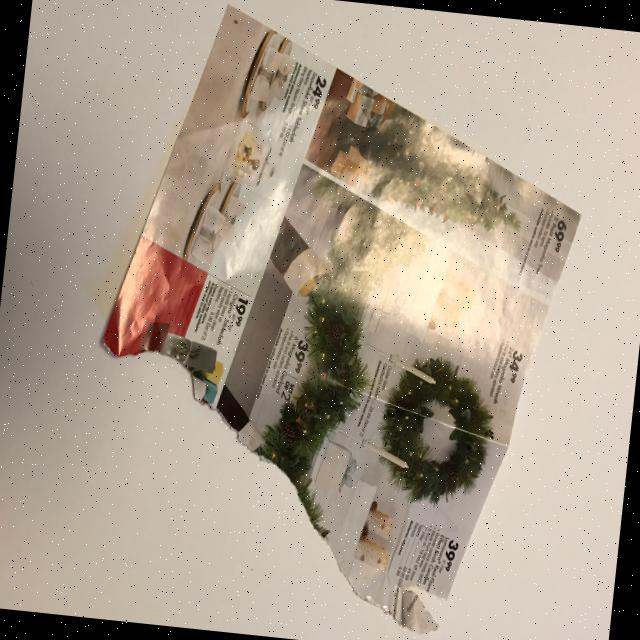paper: (74, 0, 600, 640)
